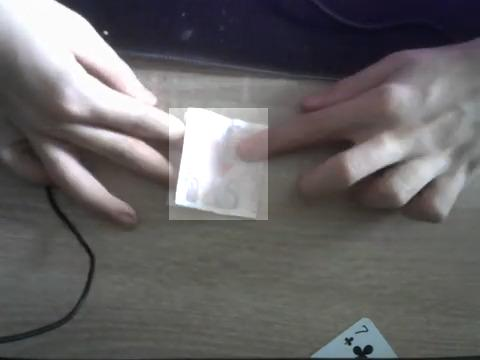5leva: (169, 108, 268, 220)
